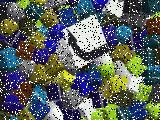Right: (62, 14, 110, 69)
